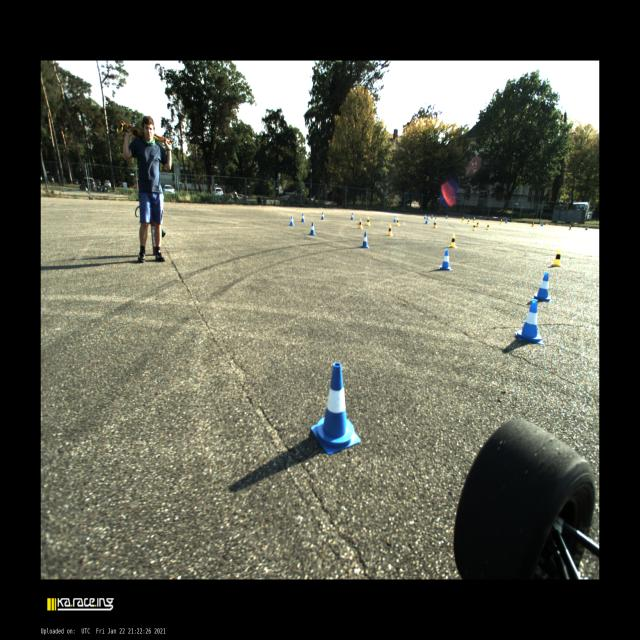blue_cone: (312, 363, 361, 456), (514, 300, 543, 345), (535, 272, 550, 302), (438, 250, 451, 270), (361, 232, 369, 248), (308, 222, 316, 235), (289, 216, 294, 226), (300, 213, 305, 222), (350, 212, 354, 220), (321, 212, 324, 219), (393, 215, 396, 222), (425, 218, 428, 224), (584, 226, 588, 230), (424, 214, 426, 219), (541, 222, 543, 226), (431, 214, 433, 218), (446, 215, 448, 219), (505, 220, 507, 223), (428, 216, 428, 221)
yellow_cone: (550, 249, 561, 266), (449, 234, 456, 248), (387, 225, 392, 236), (358, 219, 363, 229), (366, 217, 371, 226), (433, 220, 437, 228), (396, 218, 400, 226), (472, 224, 476, 230), (467, 218, 470, 224), (568, 226, 572, 230), (486, 224, 489, 229), (461, 217, 464, 222), (531, 222, 534, 227), (473, 217, 475, 222), (500, 219, 502, 224), (477, 222, 479, 226)
